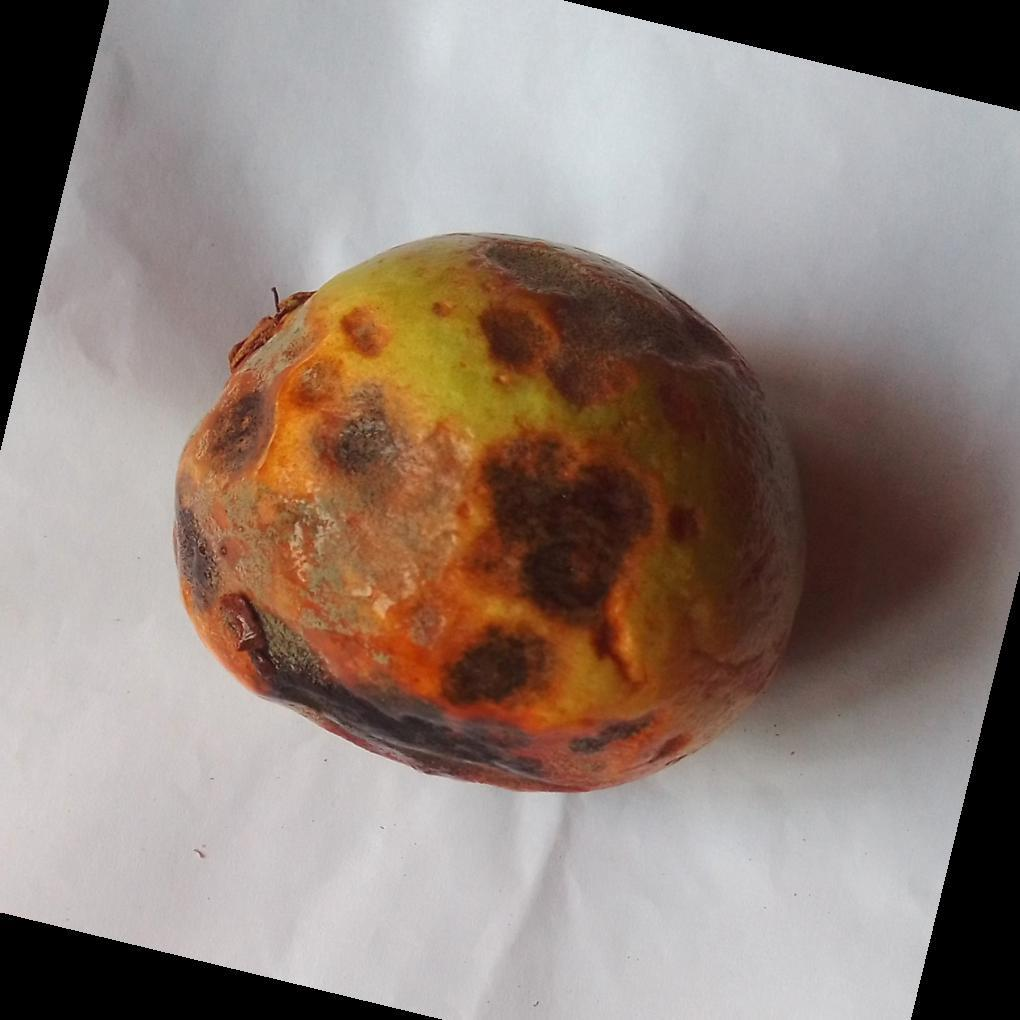FreshOrange: (173, 234, 809, 796)
